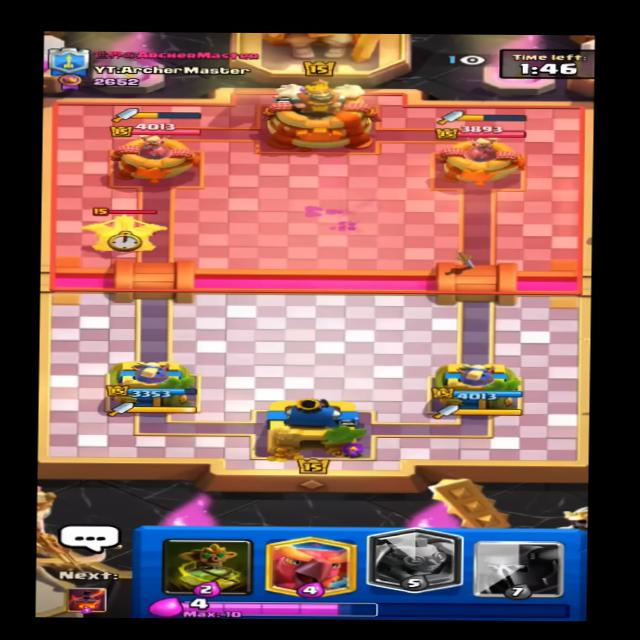Xbow: (83, 206, 175, 259)
